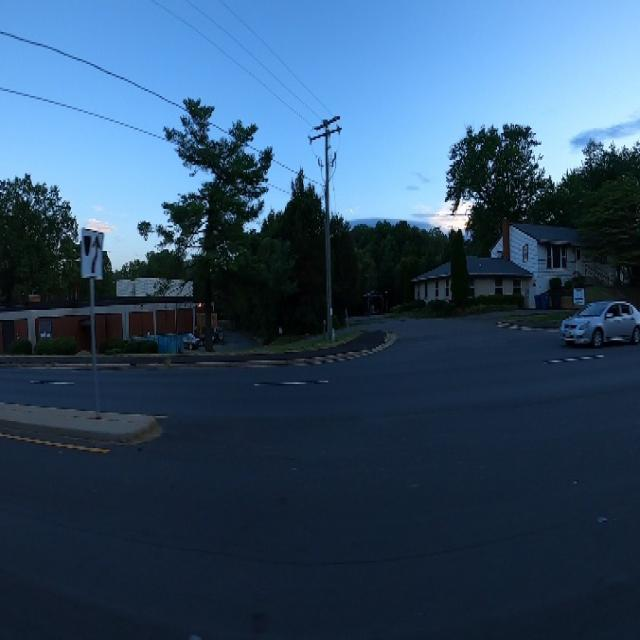car: (552, 286, 640, 359)
